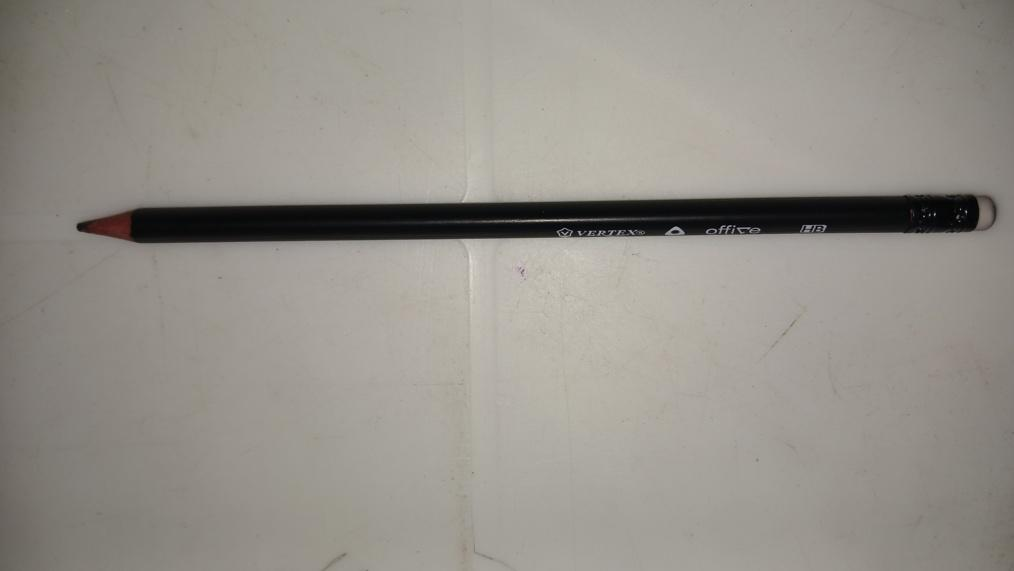Pencil: (79, 194, 998, 239)
